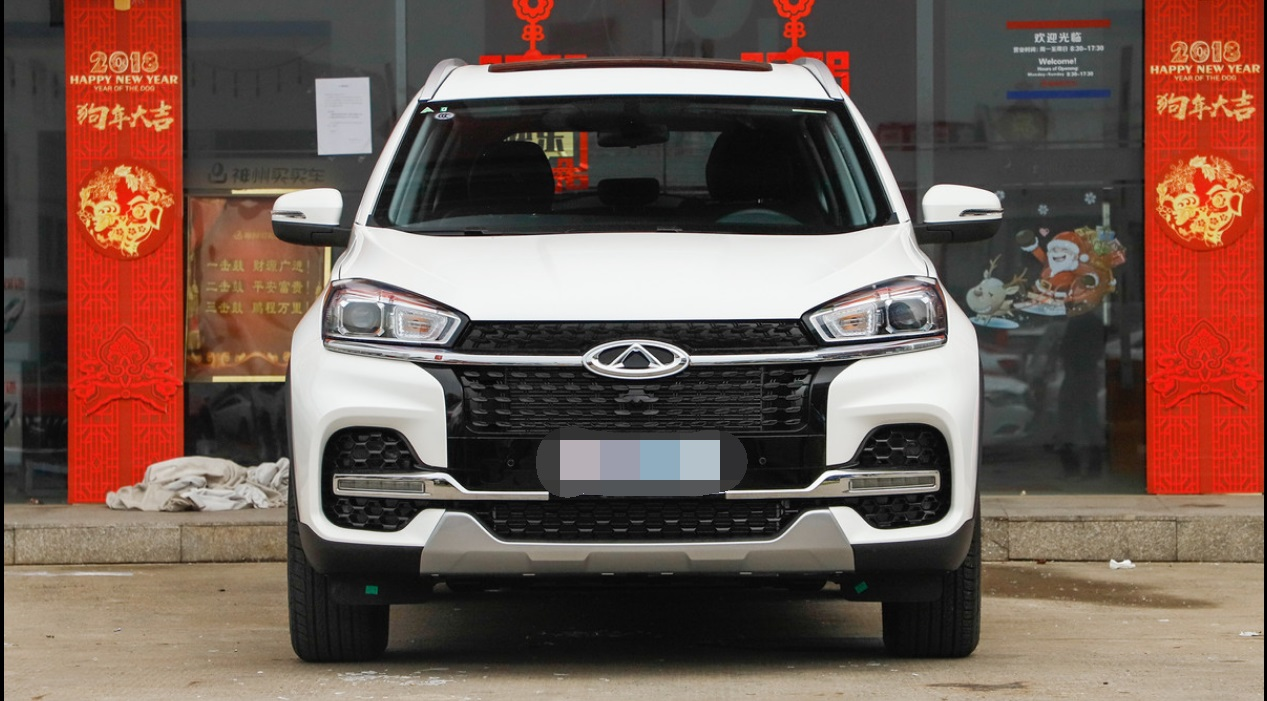SUV: (265, 55, 1016, 664)
